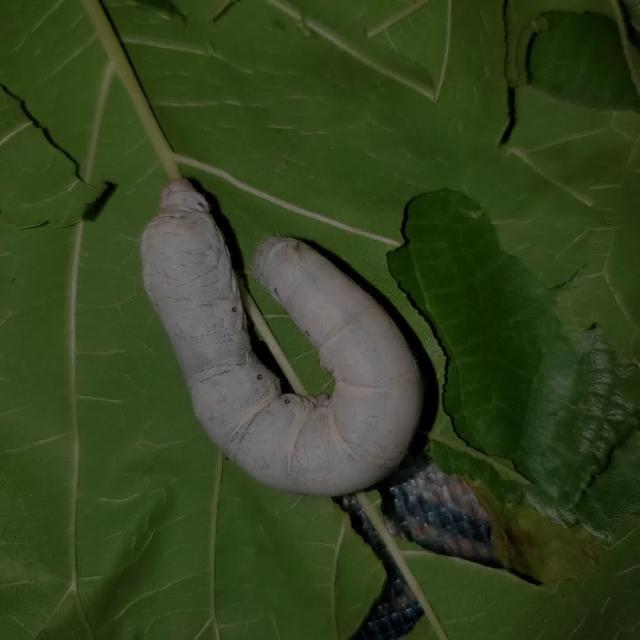Healthy: (116, 158, 460, 550)
